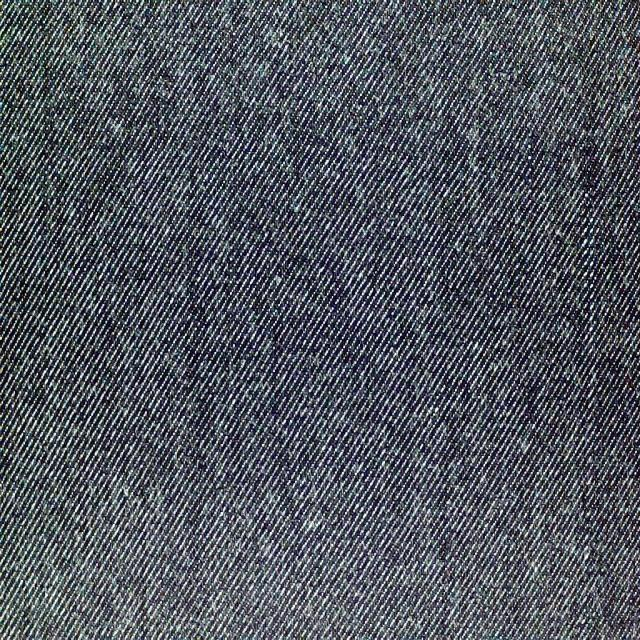pulled_or_thick_thread: (583, 210, 597, 442)
